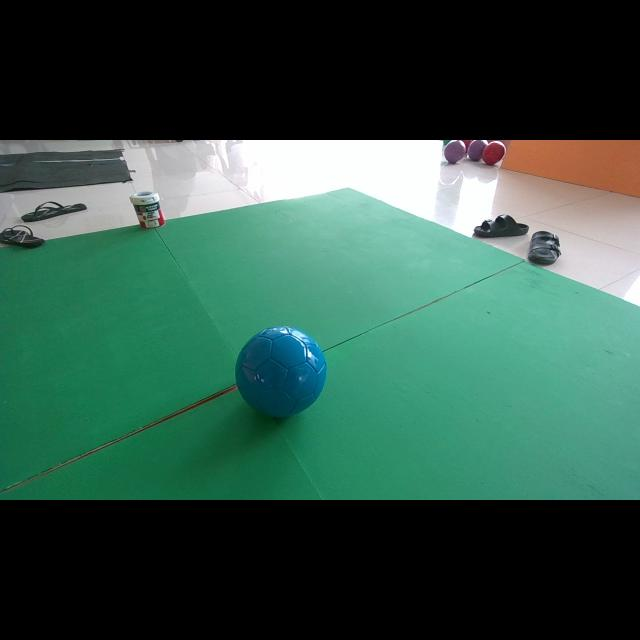B: (235, 326, 328, 417)
